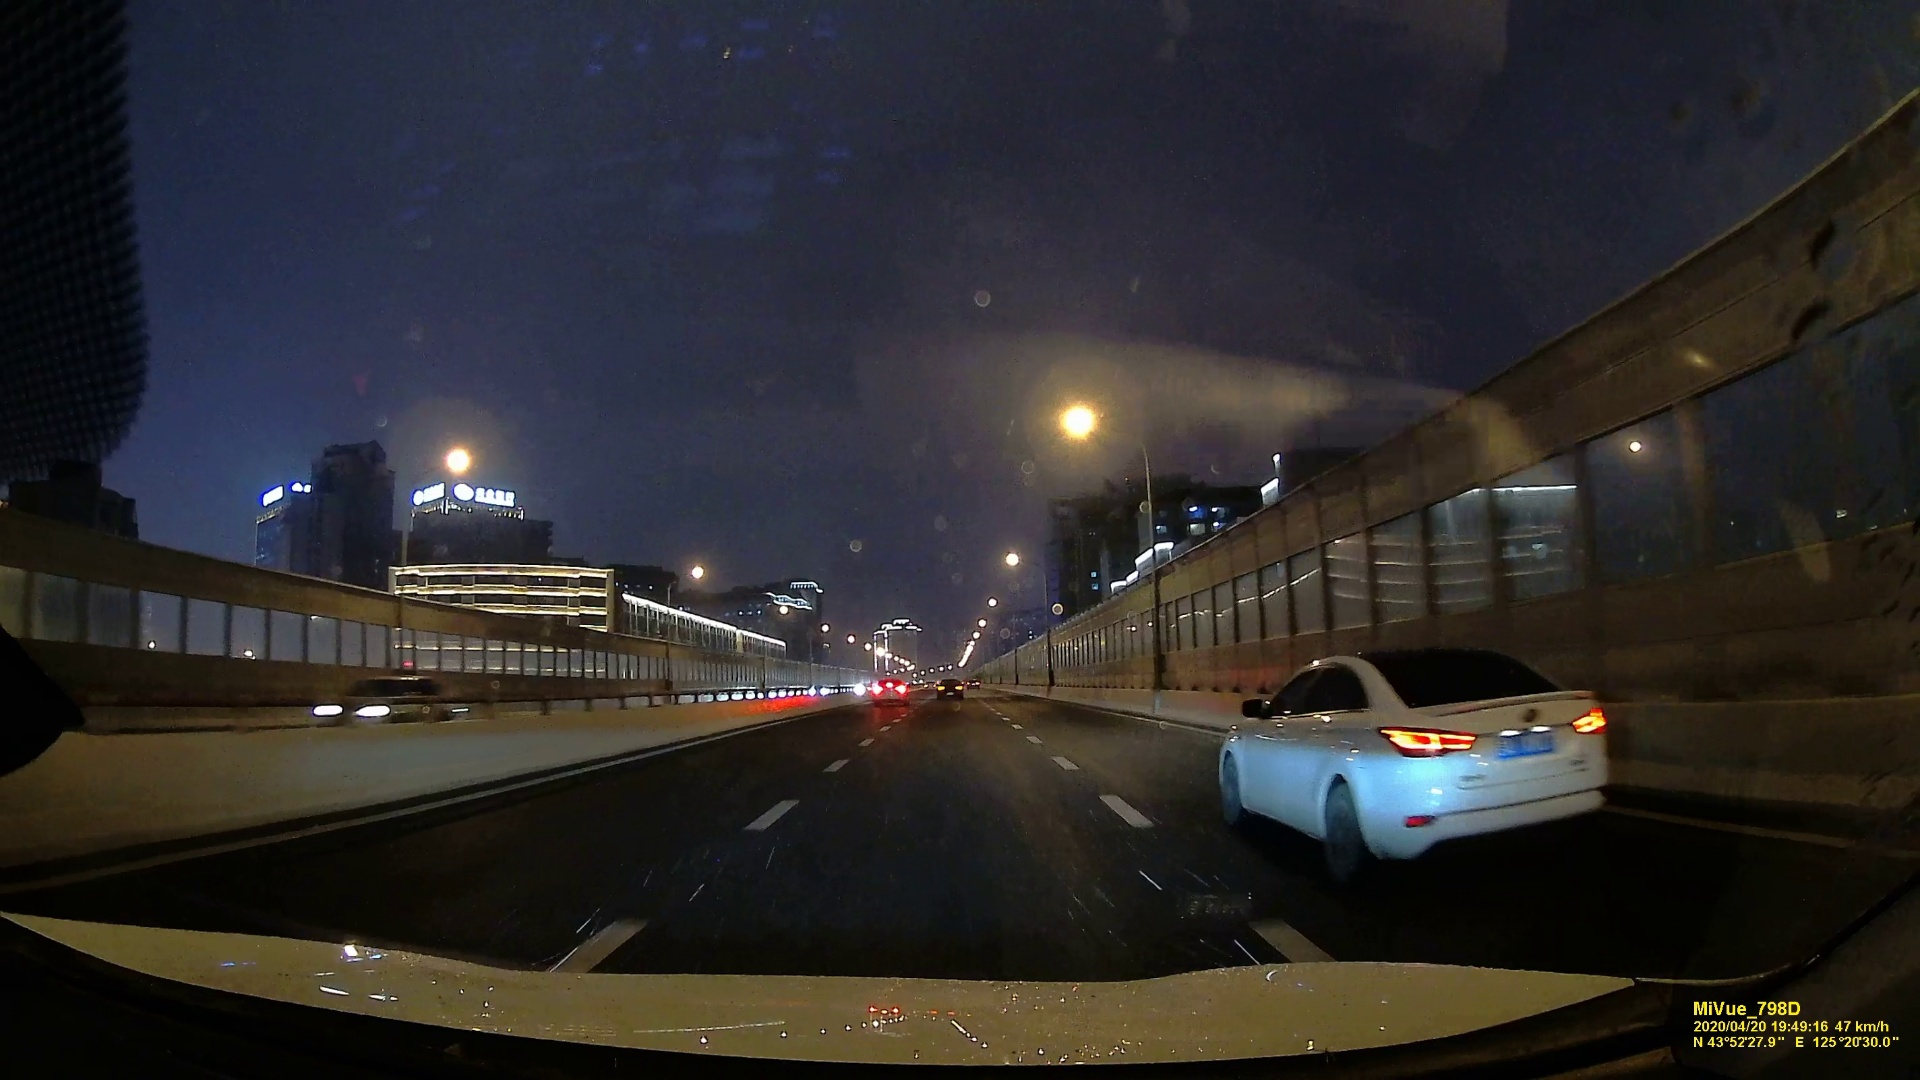vehicle: (1215, 644, 1621, 877), (318, 673, 452, 725), (872, 678, 906, 703), (934, 679, 964, 702)
